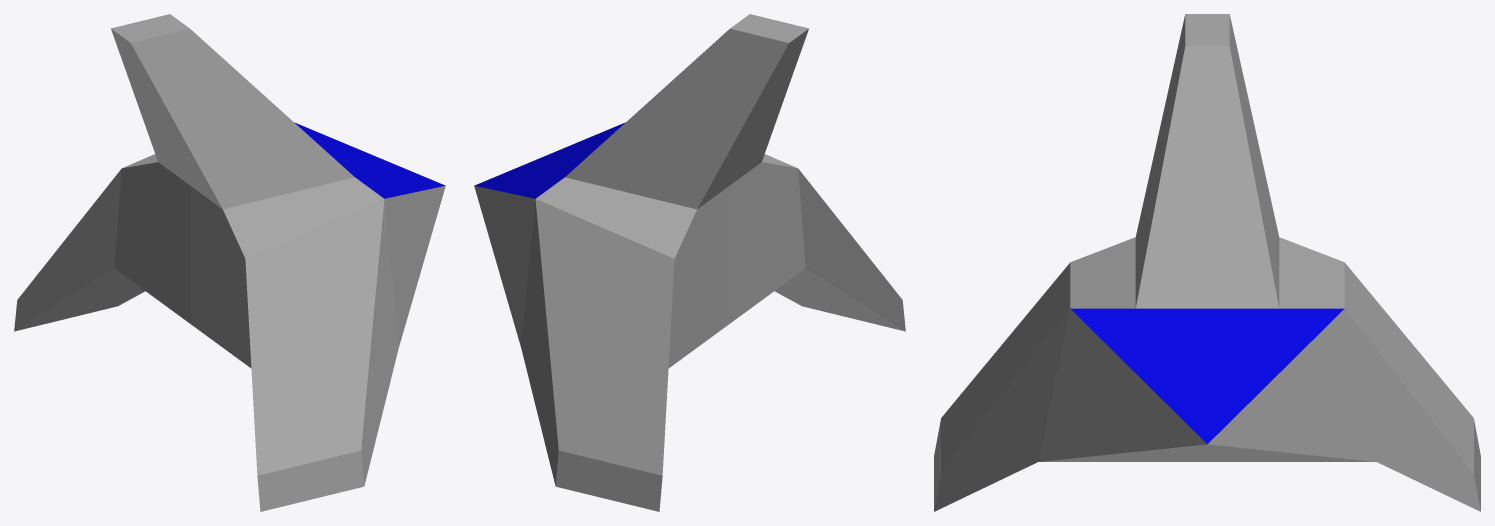
The model's file is shipenemy.fbx.
3 renders of one model, left to right at view 1: azimuth 30°, elevation 25°; view 2: azimuth 150°, elevation 25°; view 3: azimuth 270°, elevation 25°, orthographic. The views are drawn at different scales.
Visible parts, largest first — view 1: pCube3; view 2: pCube3; view 3: pCube3.
Boxes of the visible parts, <box> form: pCube3: <box>14,14,445,511</box>; pCube3: <box>474,14,905,511</box>; pCube3: <box>934,14,1480,511</box>.
Size of the model in its own units: 2.46 by 2.82 by 3.23.
